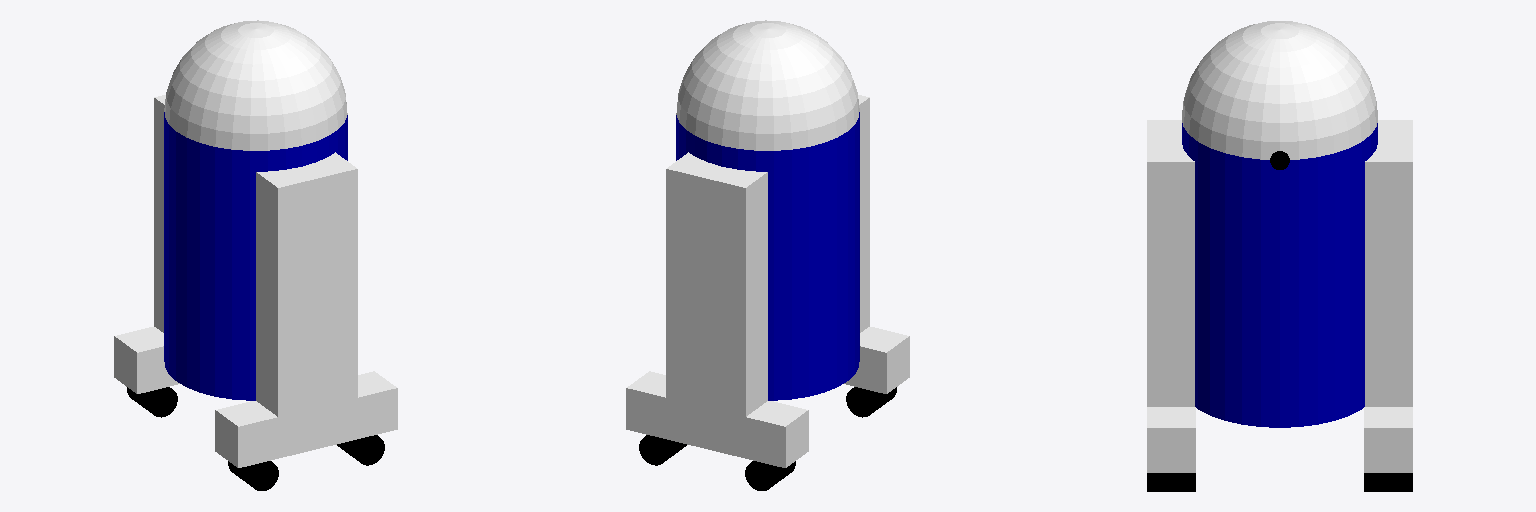
robot.urdf — r2d2:
<?xml version="1.0" ?>
<!-- =================================================================================== -->
<!-- |    This document was autogenerated by xacro from warehouse_r2d2.urdf.xacro      | -->
<!-- |    EDITING THIS FILE BY HAND IS NOT RECOMMENDED                                 | -->
<!-- =================================================================================== -->
<robot name="r2d2">
  <material name="blue">
    <color rgba="0 0 0.8 1"/>
  </material>
  <material name="black">
    <color rgba="0 0 0 1"/>
  </material>
  <material name="white">
    <color rgba="1 1 1 1"/>
  </material>
  <!-- Цвет корпуса -->
  <gazebo reference="base_link">
    <material>Gazebo/Blue</material>
  </gazebo>
  <!-- Цвет ног -->
  <gazebo reference="right_leg">
    <material>Gazebo/White</material>
  </gazebo>
  <gazebo reference="left_leg">
    <material>Gazebo/White</material>
  </gazebo>
  <!-- Цвет оснований -->
  <gazebo reference="right_base">
    <material>Gazebo/White</material>
  </gazebo>
  <gazebo reference="left_base">
    <material>Gazebo/White</material>
  </gazebo>
  <!-- Цвет головы -->
  <gazebo reference="head">
    <material>Gazebo/White</material>
  </gazebo>
  <!-- Цвет объектива -->
  <gazebo reference="camera_link">
    <material>Gazebo/Black</material>
  </gazebo>
  <link name="base_link">
    <visual>
      <geometry>
        <cylinder length="0.6" radius="0.2"/>
      </geometry>
      <material name="blue"/>
    </visual>
    <collision>
      <geometry>
        <cylinder length="0.6" radius="0.2"/>
      </geometry>
    </collision>
    <inertial>
      <origin rpy="0 0 0" xyz="0 0 0"/>
      <mass value="5.0"/>
      <inertia ixx="0.2" ixy="0" ixz="0" iyy="0.2" iyz="0" izz="0.1"/>
    </inertial>
  </link>
  <link name="right_leg">
    <visual>
      <geometry>
        <box size="0.6 0.1 0.2"/>
      </geometry>
      <origin rpy="0 1.57075 0" xyz="0 0 -0.3"/>
      <material name="white"/>
    </visual>
    <collision>
      <origin rpy="0 1.57075 0" xyz="0 0 -0.3"/>
      <geometry>
        <box size="0.6 0.1 0.2"/>
      </geometry>
    </collision>
    <inertial>
      <origin rpy="0 0 0" xyz="0 0 -0.3"/>
      <mass value="0.5"/>
      <inertia ixx="0.015417" ixy="0" ixz="0" iyy="0.016667" iyz="0" izz="0.002083"/>
    </inertial>
  </link>
  <joint name="base_to_right_leg" type="fixed">
    <parent link="base_link"/>
    <child link="right_leg"/>
    <origin xyz="0 -0.22 0.25"/>
  </joint>
  <link name="right_base">
    <visual>
      <geometry>
        <box size="0.4 0.1 0.1"/>
      </geometry>
      <material name="white"/>
    </visual>
    <collision>
      <geometry>
        <box size="0.4 0.1 0.1"/>
      </geometry>
    </collision>
    <inertial>
      <origin rpy="0 0 0" xyz="0 0 0"/>
      <mass value="0.3"/>
      <inertia ixx="0.0005" ixy="0" ixz="0" iyy="0.00425" iyz="0" izz="0.00425"/>
    </inertial>
  </link>
  <joint name="right_base_joint" type="fixed">
    <parent link="right_leg"/>
    <child link="right_base"/>
    <origin xyz="0 0 -0.6"/>
  </joint>
  <link name="right_front_wheel">
    <visual>
      <origin rpy="1.57075 0 0" xyz="0 0 0"/>
      <geometry>
        <cylinder length="0.1" radius="0.035"/>
      </geometry>
      <material name="black"/>
    </visual>
    <collision>
      <origin rpy="1.57075 0 0" xyz="0 0 0"/>
      <geometry>
        <cylinder length="0.1" radius="0.035"/>
      </geometry>
    </collision>
    <inertial>
      <origin rpy="0 0 0" xyz="0 0 0"/>
      <mass value="0.1"/>
      <inertia ixx="0.000113958" ixy="0" ixz="0" iyy="0.00006125" iyz="0" izz="0.000113958"/>
    </inertial>
  </link>
  <joint name="right_front_wheel_joint" type="continuous">
    <parent link="right_base"/>
    <child link="right_front_wheel"/>
    <origin rpy="0 0 0" xyz="0.133333333333 0 -0.085"/>
    <axis xyz="0 1 0"/>
    <limit effort="3.0" velocity="20.0"/>
  </joint>
  <gazebo reference="right_front_wheel">
    <material>Gazebo/Black</material>
  </gazebo>
  <link name="right_back_wheel">
    <visual>
      <origin rpy="1.57075 0 0" xyz="0 0 0"/>
      <geometry>
        <cylinder length="0.1" radius="0.035"/>
      </geometry>
      <material name="black"/>
    </visual>
    <collision>
      <origin rpy="1.57075 0 0" xyz="0 0 0"/>
      <geometry>
        <cylinder length="0.1" radius="0.035"/>
      </geometry>
    </collision>
    <inertial>
      <origin rpy="0 0 0" xyz="0 0 0"/>
      <mass value="0.1"/>
      <inertia ixx="0.000113958" ixy="0" ixz="0" iyy="0.00006125" iyz="0" izz="0.000113958"/>
    </inertial>
  </link>
  <joint name="right_back_wheel_joint" type="continuous">
    <parent link="right_base"/>
    <child link="right_back_wheel"/>
    <origin rpy="0 0 0" xyz="-0.133333333333 0 -0.085"/>
    <axis xyz="0 1 0"/>
    <limit effort="3.0" velocity="20.0"/>
  </joint>
  <gazebo reference="right_back_wheel">
    <material>Gazebo/Black</material>
  </gazebo>
  <link name="left_leg">
    <visual>
      <geometry>
        <box size="0.6 0.1 0.2"/>
      </geometry>
      <origin rpy="0 1.57075 0" xyz="0 0 -0.3"/>
      <material name="white"/>
    </visual>
    <collision>
      <origin rpy="0 1.57075 0" xyz="0 0 -0.3"/>
      <geometry>
        <box size="0.6 0.1 0.2"/>
      </geometry>
    </collision>
    <inertial>
      <origin rpy="0 0 0" xyz="0 0 -0.3"/>
      <mass value="0.5"/>
      <inertia ixx="0.015417" ixy="0" ixz="0" iyy="0.016667" iyz="0" izz="0.002083"/>
    </inertial>
  </link>
  <joint name="base_to_left_leg" type="fixed">
    <parent link="base_link"/>
    <child link="left_leg"/>
    <origin xyz="0 0.22 0.25"/>
  </joint>
  <link name="left_base">
    <visual>
      <geometry>
        <box size="0.4 0.1 0.1"/>
      </geometry>
      <material name="white"/>
    </visual>
    <collision>
      <geometry>
        <box size="0.4 0.1 0.1"/>
      </geometry>
    </collision>
    <inertial>
      <origin rpy="0 0 0" xyz="0 0 0"/>
      <mass value="0.3"/>
      <inertia ixx="0.0005" ixy="0" ixz="0" iyy="0.00425" iyz="0" izz="0.00425"/>
    </inertial>
  </link>
  <joint name="left_base_joint" type="fixed">
    <parent link="left_leg"/>
    <child link="left_base"/>
    <origin xyz="0 0 -0.6"/>
  </joint>
  <link name="left_front_wheel">
    <visual>
      <origin rpy="1.57075 0 0" xyz="0 0 0"/>
      <geometry>
        <cylinder length="0.1" radius="0.035"/>
      </geometry>
      <material name="black"/>
    </visual>
    <collision>
      <origin rpy="1.57075 0 0" xyz="0 0 0"/>
      <geometry>
        <cylinder length="0.1" radius="0.035"/>
      </geometry>
    </collision>
    <inertial>
      <origin rpy="0 0 0" xyz="0 0 0"/>
      <mass value="0.1"/>
      <inertia ixx="0.000113958" ixy="0" ixz="0" iyy="0.00006125" iyz="0" izz="0.000113958"/>
    </inertial>
  </link>
  <joint name="left_front_wheel_joint" type="continuous">
    <parent link="left_base"/>
    <child link="left_front_wheel"/>
    <origin rpy="0 0 0" xyz="0.133333333333 0 -0.085"/>
    <axis xyz="0 1 0"/>
    <limit effort="3.0" velocity="20.0"/>
  </joint>
  <gazebo reference="left_front_wheel">
    <material>Gazebo/Black</material>
  </gazebo>
  <link name="left_back_wheel">
    <visual>
      <origin rpy="1.57075 0 0" xyz="0 0 0"/>
      <geometry>
        <cylinder length="0.1" radius="0.035"/>
      </geometry>
      <material name="black"/>
    </visual>
    <collision>
      <origin rpy="1.57075 0 0" xyz="0 0 0"/>
      <geometry>
        <cylinder length="0.1" radius="0.035"/>
      </geometry>
    </collision>
    <inertial>
      <origin rpy="0 0 0" xyz="0 0 0"/>
      <mass value="0.1"/>
      <inertia ixx="0.000113958" ixy="0" ixz="0" iyy="0.00006125" iyz="0" izz="0.000113958"/>
    </inertial>
  </link>
  <joint name="left_back_wheel_joint" type="continuous">
    <parent link="left_base"/>
    <child link="left_back_wheel"/>
    <origin rpy="0 0 0" xyz="-0.133333333333 0 -0.085"/>
    <axis xyz="0 1 0"/>
    <limit effort="3.0" velocity="20.0"/>
  </joint>
  <gazebo reference="left_back_wheel">
    <material>Gazebo/Black</material>
  </gazebo>
  <link name="head">
    <visual>
      <geometry>
        <sphere radius="0.2"/>
      </geometry>
      <material name="white"/>
    </visual>
    <collision>
      <geometry>
        <sphere radius="0.2"/>
      </geometry>
    </collision>
    <inertial>
      <origin rpy="0 0 0" xyz="0 0 0"/>
      <mass value="1.0"/>
      <inertia ixx="0.016" ixy="0" ixz="0" iyy="0.016" iyz="0" izz="0.016"/>
    </inertial>
  </link>
  <link name="camera_link">
    <visual>
      <geometry>
        <sphere radius="0.02"/>
      </geometry>
      <material name="black"/>
    </visual>
    <inertial>
      <origin rpy="0 0 0" xyz="0 0 0"/>
      <mass value="0.01"/>
      <inertia ixx="0.0000016" ixy="0" ixz="0" iyy="0.0000016" iyz="0" izz="0.0000016"/>
    </inertial>
  </link>
  <joint name="head_to_camera" type="fixed">
    <parent link="head"/>
    <child link="camera_link"/>
    <origin rpy="0 0 0" xyz="0.2 0 0"/>
  </joint>
  <joint name="head_swivel" type="revolute">
    <parent link="base_link"/>
    <child link="head"/>
    <origin rpy="0 0 0" xyz="0 0 0.3"/>
    <axis xyz="0 0 1"/>
    <limit effort="5.0" lower="-1.570796" upper="1.570796" velocity="1.0"/>
  </joint>
</robot>

--- What the picture shows (computed from the rendered views, not written in the file) ---
3 views of the same robot in one strip: view 1: azimuth 30°, elevation 25°; view 2: azimuth 150°, elevation 25°; view 3: azimuth 270°, elevation 25° (orthographic).
Model r2d2 with 11 links and 10 joints (1 revolute, 4 continuous, 5 fixed), rooted at base_link, posed every joint at zero.
Visible links, largest first — view 1: right_leg, base_link, head, right_base, left_base, left_leg, left_back_wheel, right_back_wheel, right_front_wheel; view 2: left_leg, base_link, head, left_base, right_base, right_leg, right_back_wheel, left_back_wheel, left_front_wheel; view 3: base_link, head, right_leg, left_leg, right_base, left_base, right_front_wheel, left_front_wheel.
Link boxes in pixels (left/top/right/bottom): right_leg: left=256, top=152, right=357, bottom=437; base_link: left=164, top=112, right=347, bottom=400; head: left=164, top=20, right=347, bottom=150; right_base: left=215, top=371, right=397, bottom=467; left_base: left=114, top=327, right=179, bottom=393; left_leg: left=154, top=95, right=165, bottom=332; left_back_wheel: left=127, top=387, right=177, bottom=417; right_back_wheel: left=228, top=461, right=278, bottom=490; right_front_wheel: left=337, top=435, right=384, bottom=465; left_leg: left=666, top=152, right=767, bottom=436; base_link: left=676, top=112, right=859, bottom=400; head: left=676, top=20, right=859, bottom=150; left_base: left=626, top=371, right=808, bottom=467; right_base: left=844, top=327, right=909, bottom=393; right_leg: left=858, top=95, right=869, bottom=332; right_back_wheel: left=846, top=387, right=896, bottom=417; left_back_wheel: left=745, top=461, right=795, bottom=490; left_front_wheel: left=639, top=435, right=686, bottom=465; base_link: left=1182, top=123, right=1377, bottom=427; head: left=1182, top=21, right=1377, bottom=159; right_leg: left=1147, top=120, right=1194, bottom=406; left_leg: left=1365, top=120, right=1412, bottom=406; right_base: left=1147, top=407, right=1195, bottom=472; left_base: left=1364, top=407, right=1412, bottom=472; right_front_wheel: left=1147, top=473, right=1195, bottom=491; left_front_wheel: left=1364, top=473, right=1412, bottom=491.
Size in the robot's own frame: 0.42 by 0.54 by 0.97 metres.
Geometry: primitives only (box / cylinder / sphere), no mesh files.
